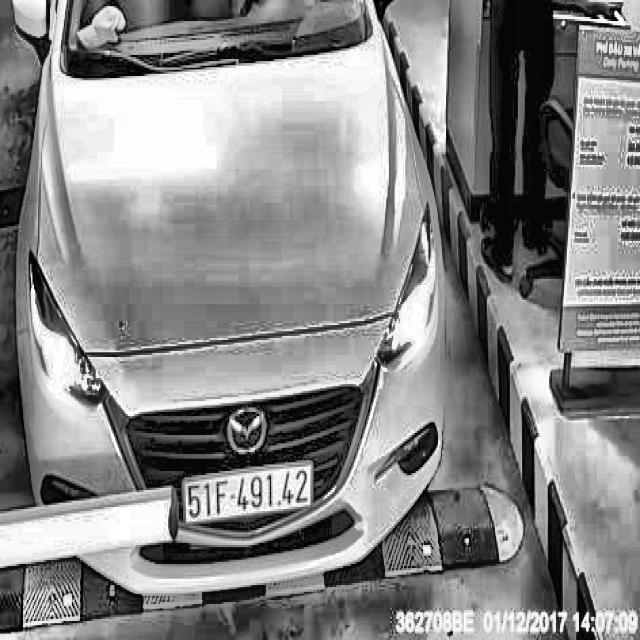plate: (179, 453, 317, 532)
